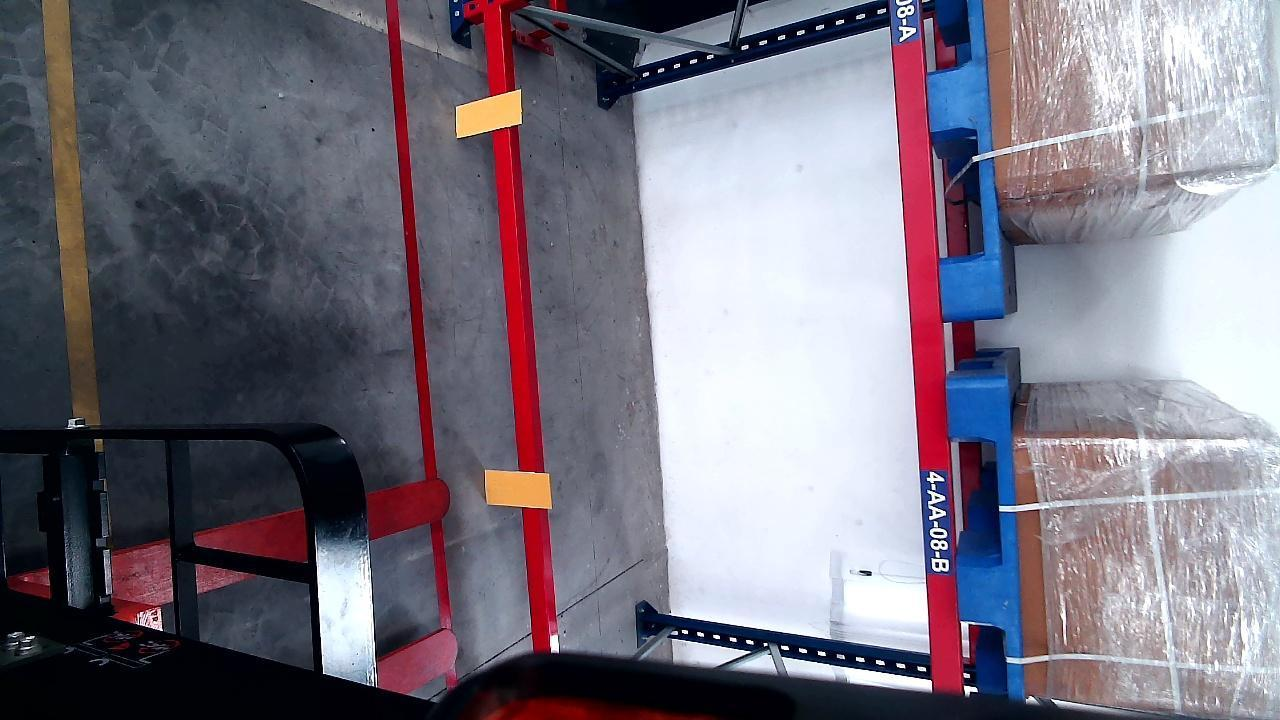h_rack: (482, 7, 558, 662), (888, 0, 959, 688)
orange_strip: (453, 90, 522, 138), (484, 469, 551, 509)
red_line: (387, 0, 442, 514)
small_pallet: (920, 0, 1002, 317), (951, 381, 1023, 697)
yellow_line: (42, 0, 101, 439)
